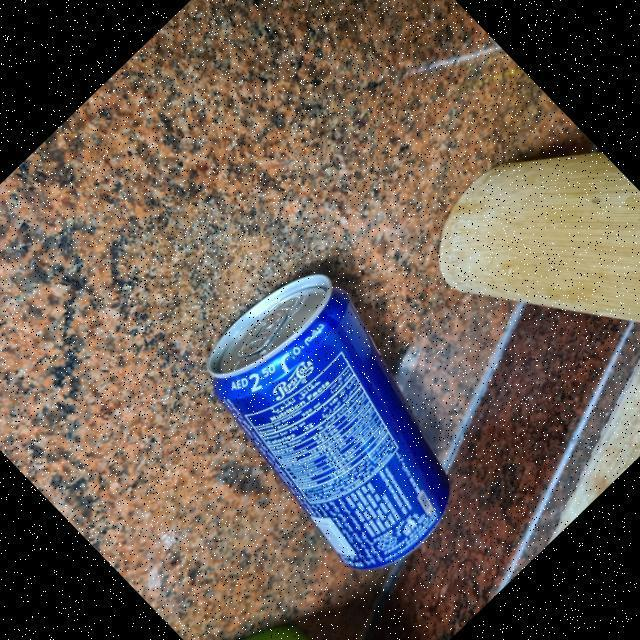can: (160, 239, 520, 600)
